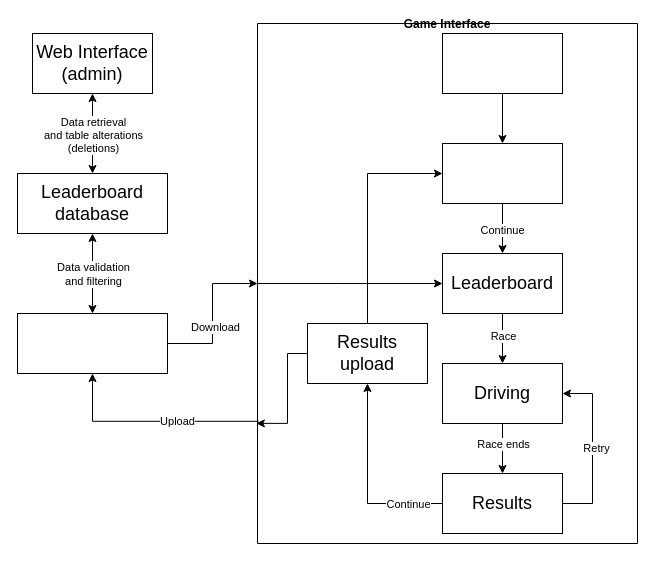
This 655x561 diagram has some shape labels left out. The shapes that lost their labels are listed below. From the top down, each one's centre as x and y in pixels, then its label:
At point (502, 63): "Title Screen".
At point (502, 173): "Main Menu".
At point (92, 343): "Leaderboard API".
